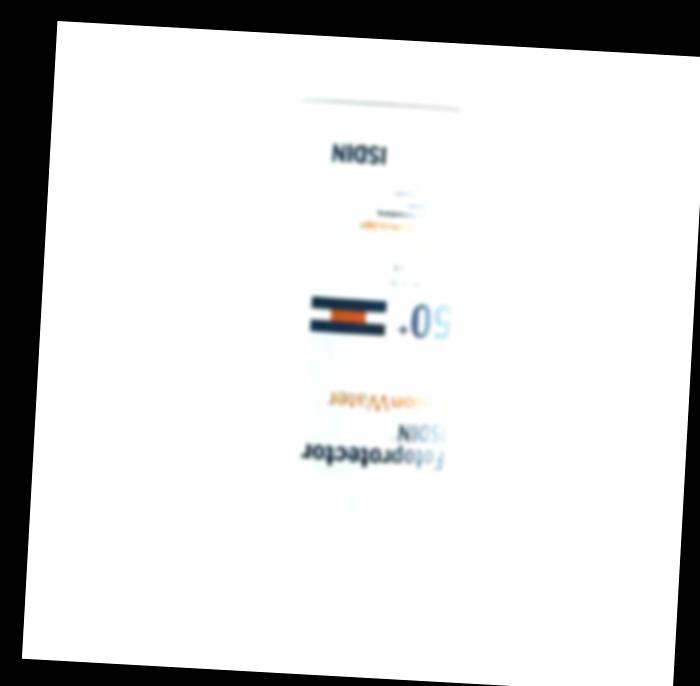cosmetic: (237, 94, 491, 611)
